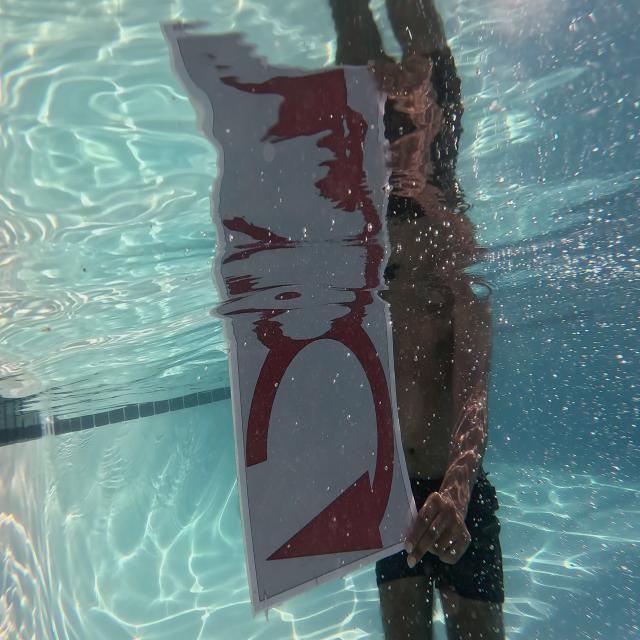red_side: (244, 314, 403, 570)
